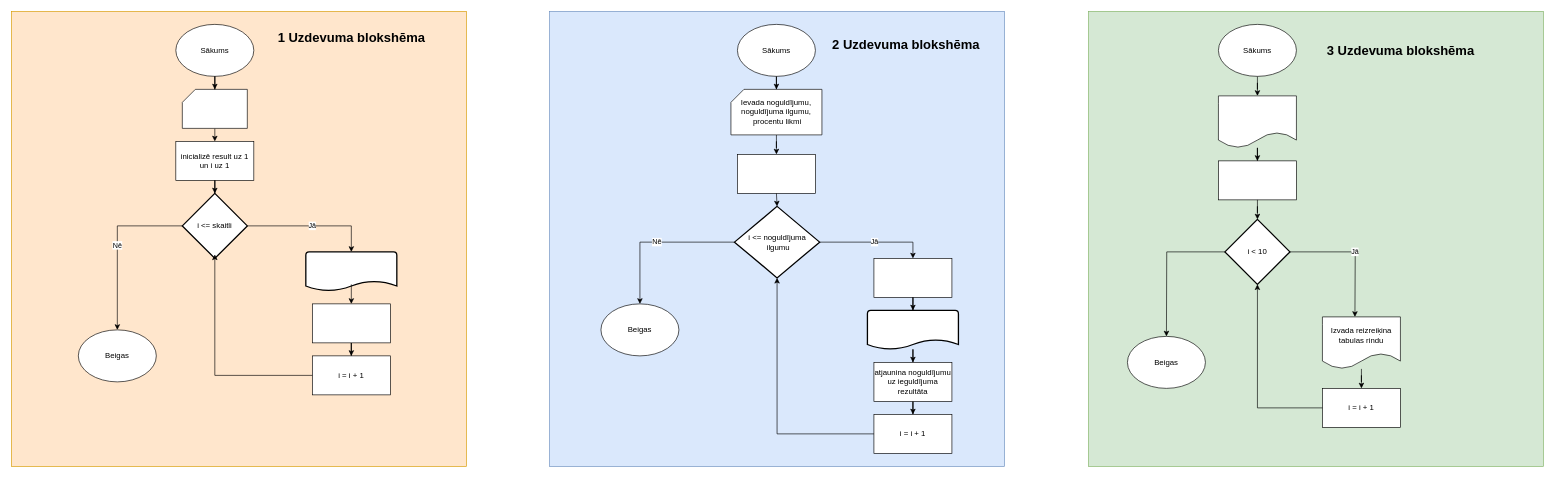
The diagram is 1555 pixels wide and 478 high, and some of its shapes have lost their labels. Each missing label, with the centre of its shape:
aprēķina ieguldījumu: [912,277]
i = 0: [1257,180]
Ievada skaitli: [214,108]
inicializē i uz 1: [776,173]
Izvada factorial izteiksmi: [351,271]
Izvada ieguldījumu pēc n/i gada: [912,329]
Izvada reizreiķina tabulas galveni: [1257,121]
result *= i: [351,323]
